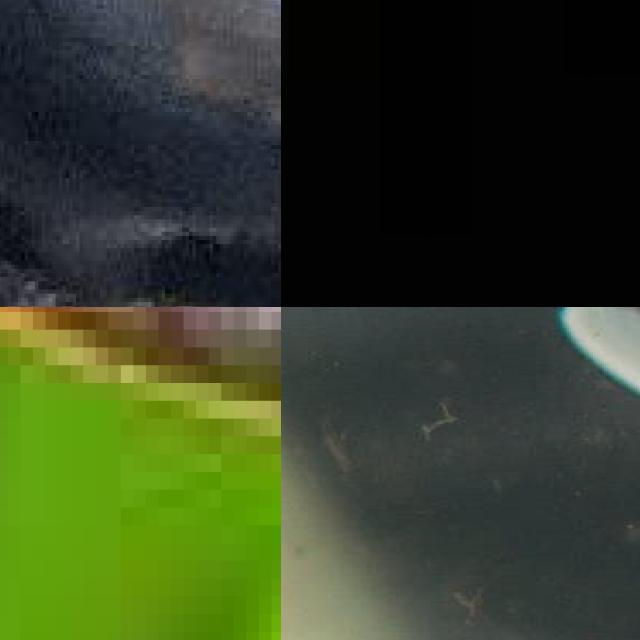fish: (0, 0, 281, 307)
